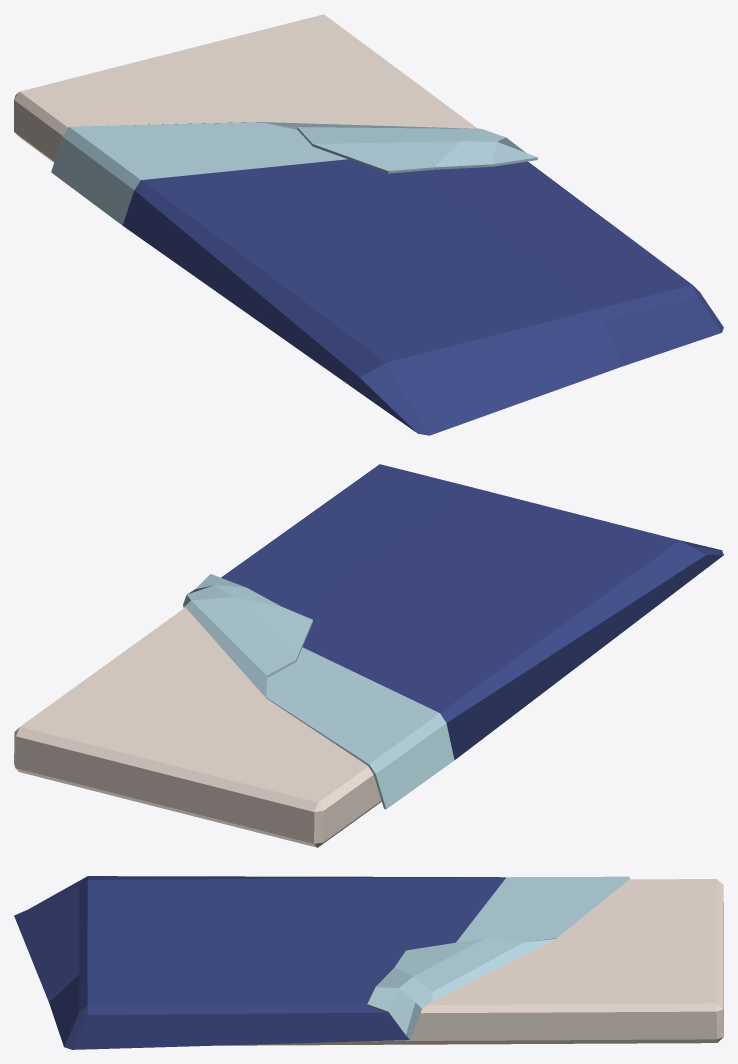
The model's file is Bed_6.fbx.
The picture shows the model from 3 angles, top to bottom: view 1: azimuth 30°, elevation 25°; view 2: azimuth 150°, elevation 25°; view 3: azimuth 270°, elevation 25°; orthographic projection. The views are drawn at different scales.
Parts seen in each view (by area): view 1: Bed_6; view 2: Bed_6; view 3: Bed_6.
Boxes of the visible parts, x1=… form: Bed_6: x1=14, y1=14, x2=723, y2=435; Bed_6: x1=14, y1=464, x2=723, y2=847; Bed_6: x1=14, y1=876, x2=723, y2=1049.
Bounding box in the file's own units: 123 × 250 × 21.71.
